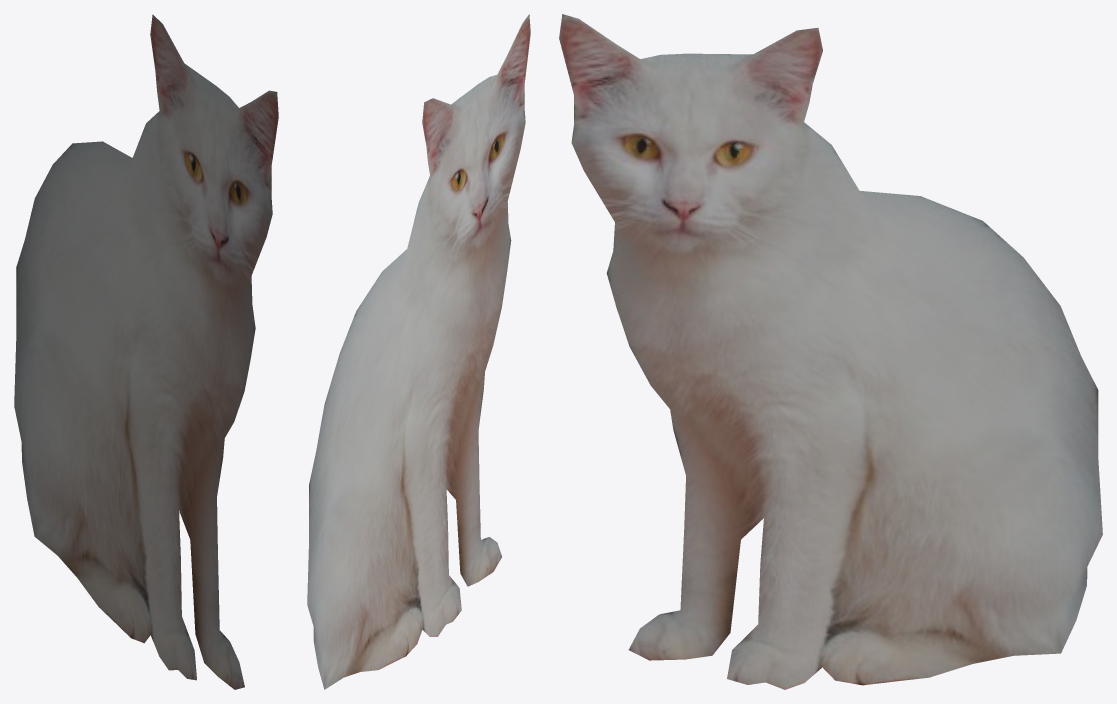
File: weiße.katze.glb
3 views of the same model, side by side, from view 1: azimuth 30°, elevation 25°; view 2: azimuth 150°, elevation 25°; view 3: azimuth 270°, elevation 25° (orthographic). The views are drawn at different scales.
Visible parts, largest first — view 1: fototapeten-weise-katze-sitzt-vor-der-haustur-am-eingang-zum; view 2: fototapeten-weise-katze-sitzt-vor-der-haustur-am-eingang-zum; view 3: fototapeten-weise-katze-sitzt-vor-der-haustur-am-eingang-zum.
Part boxes in pixels (<box>): fototapeten-weise-katze-sitzt-vor-der-haustur-am-eingang-zum: <box>14,14,278,689</box>; fototapeten-weise-katze-sitzt-vor-der-haustur-am-eingang-zum: <box>307,14,530,689</box>; fototapeten-weise-katze-sitzt-vor-der-haustur-am-eingang-zum: <box>559,14,1102,689</box>.
Bounding box in the file's own units: 6.56e-08 × 1.36 × 0.9934.
1 material, 1 textured.
